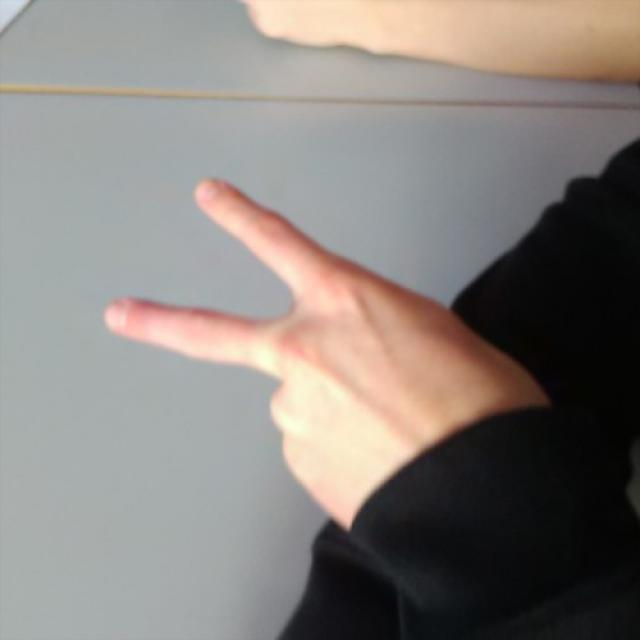scissors: (106, 174, 417, 492)
